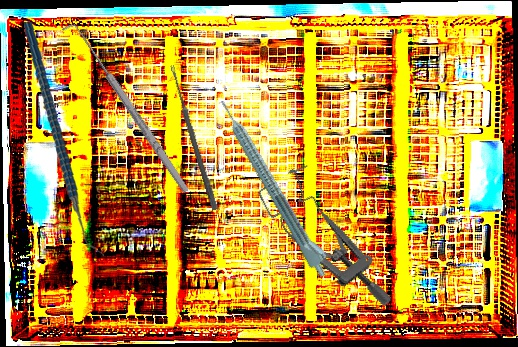Chopper: (8, 21, 120, 257)
Handpiece: (215, 93, 337, 280)
Hook Surgical: (60, 16, 194, 201)
Speculum: (254, 154, 395, 335)
Surgical Spoon: (168, 64, 219, 211)
